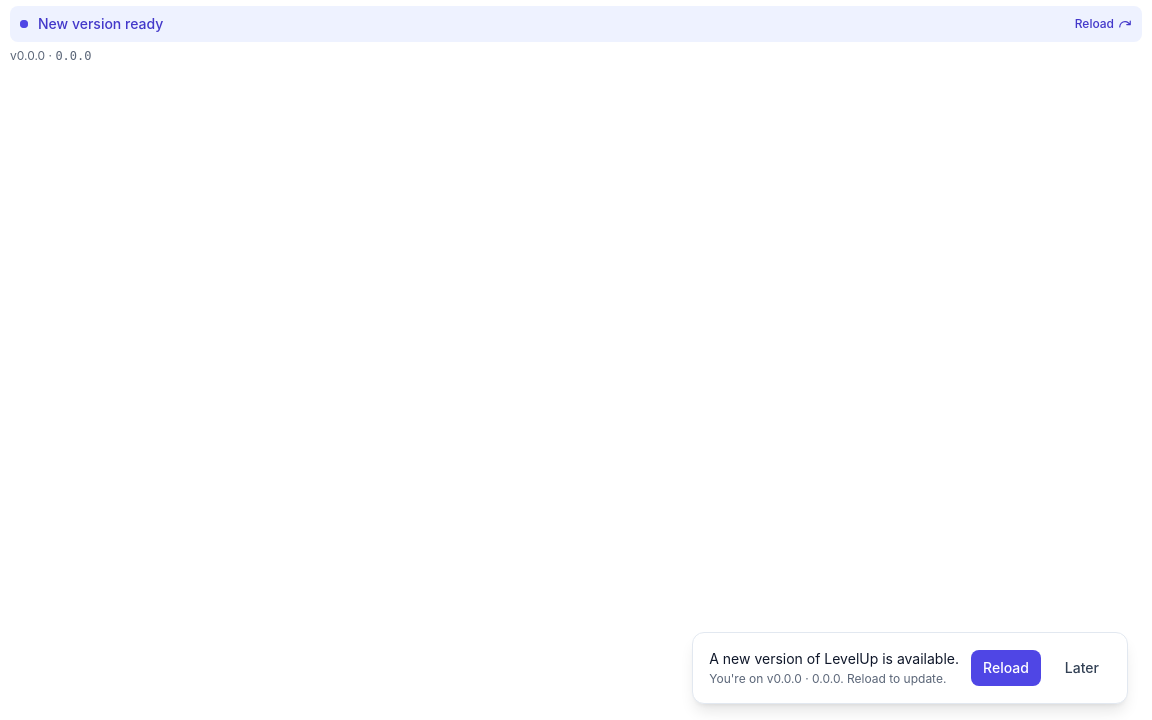
Test: PwaToasts › lets the user postpone an update; the footer keeps a Reload button
Later steps or results of the test are not shown.
Click the button "Later": coordinates (1082, 668) left=1053, top=650, right=1111, bottom=686
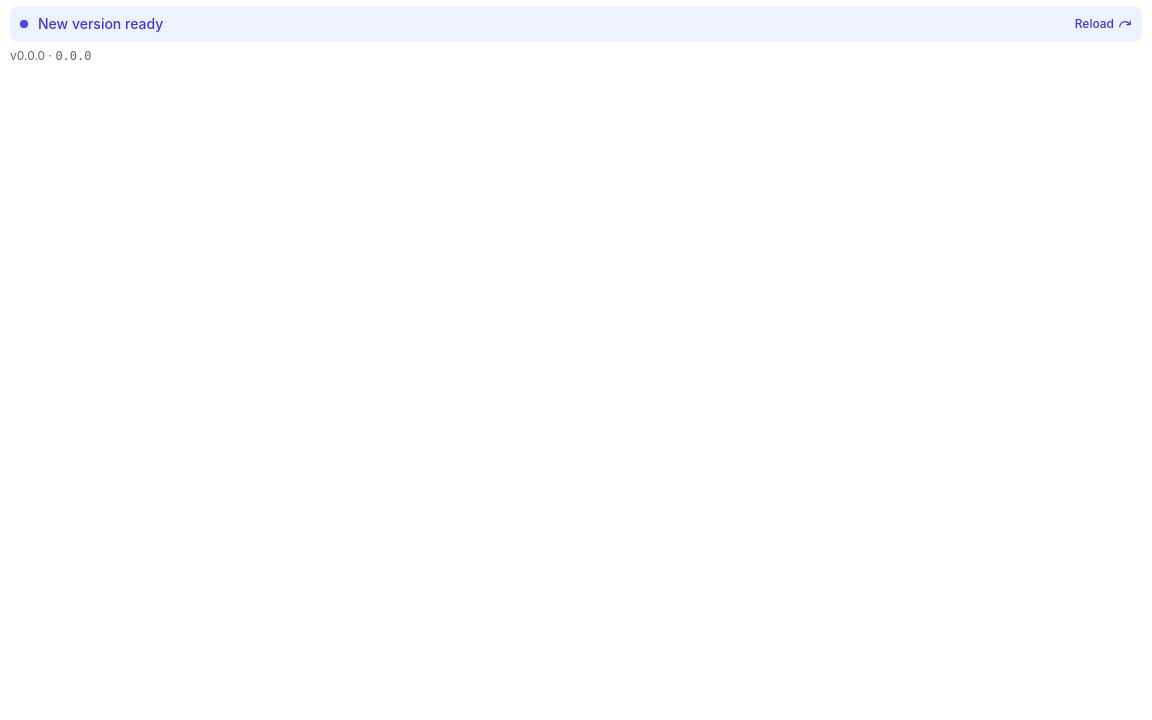
Expected: the message is gone
